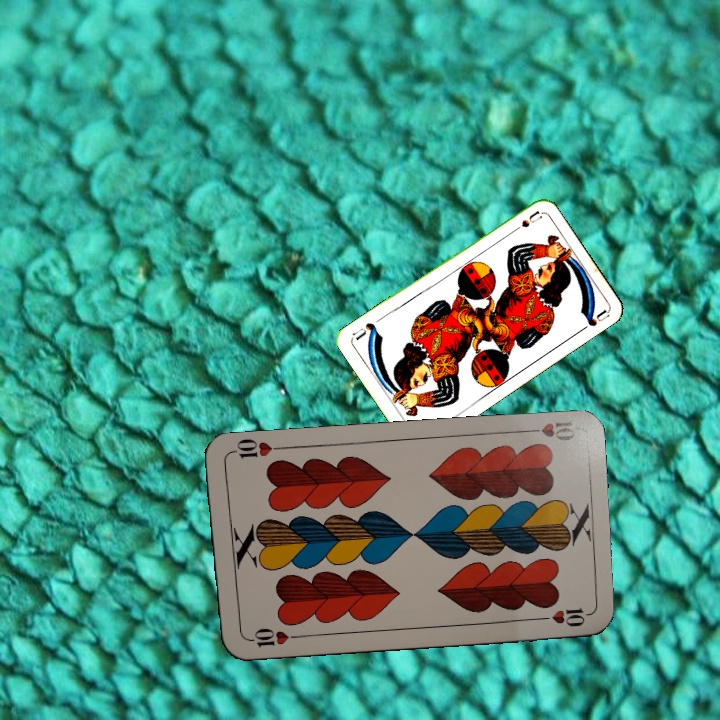H10: (519, 416, 578, 444), (242, 623, 301, 649)
SU: (506, 207, 544, 237)
